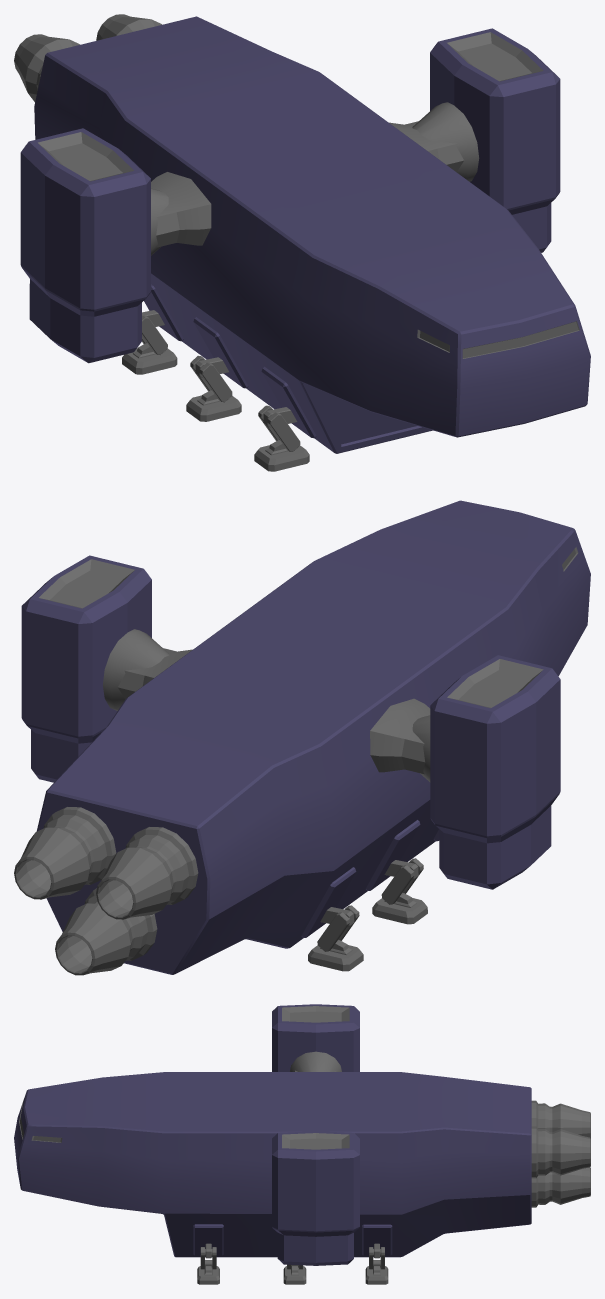
File: Ikarii_I.fbx
The picture shows the model from 3 angles, top to bottom: view 1: azimuth 30°, elevation 25°; view 2: azimuth 150°, elevation 25°; view 3: azimuth 270°, elevation 25°; orthographic projection. The views are drawn at different scales.
Visible parts, largest first — view 1: SpaceshipBody, Engine2, Engine, LG4.001, LG6, LG2, BoostEngine.001, BoostEngine; view 2: SpaceshipBody, Engine2, Engine, BoostEngine.001, BoostEngine, BoostEngine.003, LG2, LG6; view 3: SpaceshipBody, Engine, Engine2, BoostEngine, BoostEngine.003, BoostEngine.001, LG1, LG4, LG3.
Boxes of the visible parts, <box> form: SpaceshipBody: <box>34,16,590,453</box>; Engine2: <box>20,128,150,363</box>; Engine: <box>430,28,560,252</box>; LG4.001: <box>254,405,309,471</box>; LG6: <box>186,355,241,421</box>; LG2: <box>122,310,177,374</box>; BoostEngine.001: <box>14,34,79,101</box>; BoostEngine: <box>96,14,161,40</box>; SpaceshipBody: <box>36,500,590,974</box>; Engine2: <box>430,655,560,889</box>; Engine: <box>21,555,151,782</box>; BoostEngine.001: <box>96,827,198,919</box>; BoostEngine: <box>14,807,116,899</box>; BoostEngine.003: <box>55,888,157,975</box>; LG2: <box>308,905,363,971</box>; LG6: <box>372,858,427,924</box>; SpaceshipBody: <box>14,1051,531,1257</box>; Engine: <box>272,1131,359,1265</box>; Engine2: <box>272,1004,359,1071</box>; BoostEngine: <box>531,1126,590,1178</box>; BoostEngine.003: <box>531,1167,590,1207</box>; BoostEngine.001: <box>531,1100,590,1138</box>; LG1: <box>197,1243,219,1284</box>; LG4: <box>365,1243,388,1284</box>; LG3: <box>283,1264,306,1284</box>.
Bounding box in the file's own units: 2373 × 1246 × 3797.
